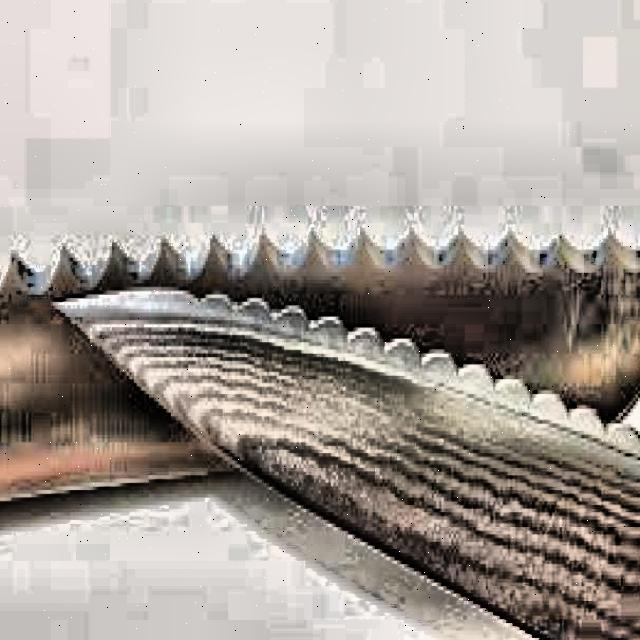knife: (53, 268, 640, 640), (0, 211, 640, 544)
